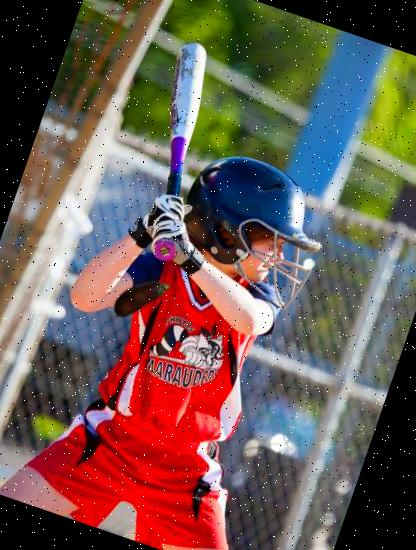Eggplant: (100, 256, 181, 336)
